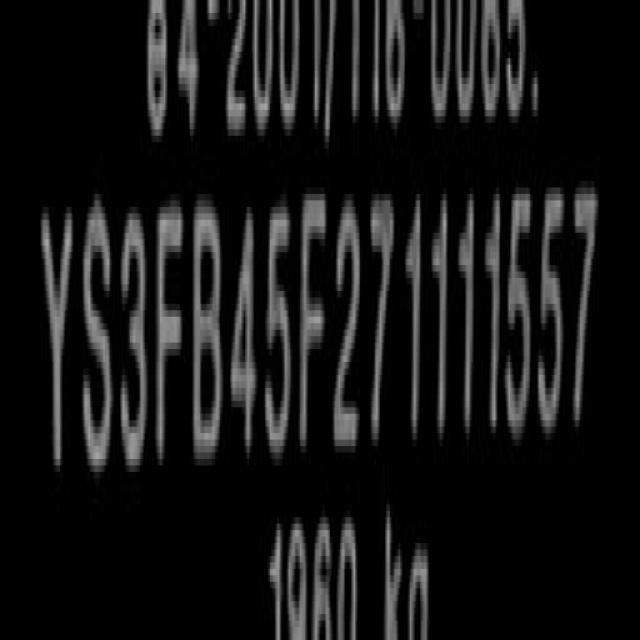1: (404, 185, 425, 458), (457, 185, 477, 455), (483, 182, 502, 453), (432, 189, 451, 453)
2: (335, 190, 365, 462)
3: (119, 199, 150, 481)
4: (229, 202, 258, 472)
5: (266, 193, 294, 465), (539, 183, 568, 445), (508, 180, 534, 449)
7: (570, 182, 598, 445), (370, 189, 395, 460)
B: (192, 196, 225, 474)
F: (157, 195, 186, 479), (297, 182, 327, 445)
S: (81, 204, 116, 485)
Y: (40, 216, 75, 484)
